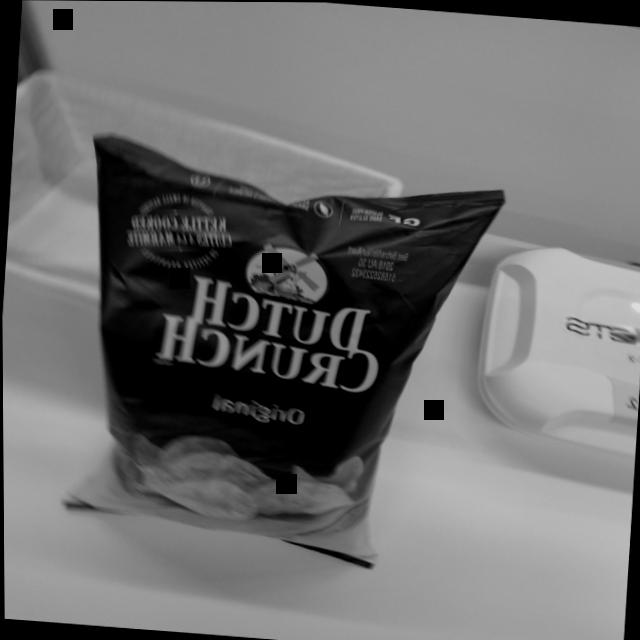potato_chips: (42, 125, 517, 579)
